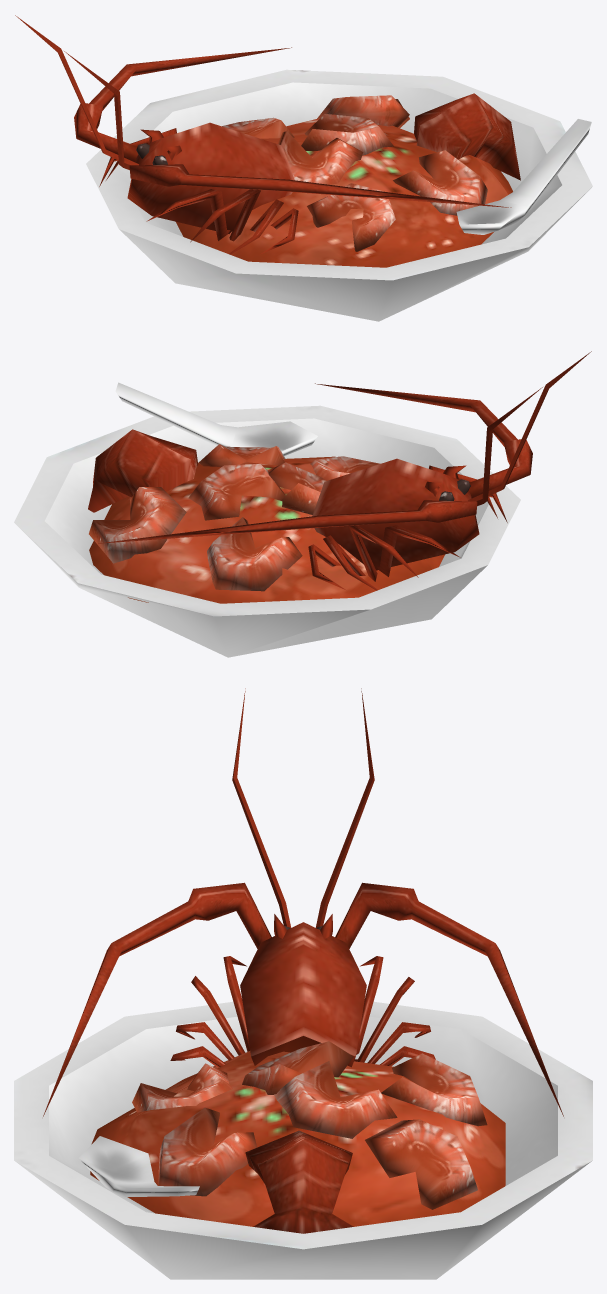
Rendered from ebi.fbx.
3 views of the same model, one above another, from view 1: azimuth 30°, elevation 25°; view 2: azimuth 150°, elevation 25°; view 3: azimuth 270°, elevation 25° (orthographic). The views are drawn at different scales.
Visible parts, largest first — view 1: ebi; view 2: ebi; view 3: ebi.
Boxes of the visible parts, x1,y1,x2,y2 form: ebi: [15, 15, 592, 321]; ebi: [14, 351, 591, 657]; ebi: [14, 688, 592, 1279].
Size of the model in its own units: 2.99 by 1.56 by 2.41.
Materials: 1 (1 with a texture image).
